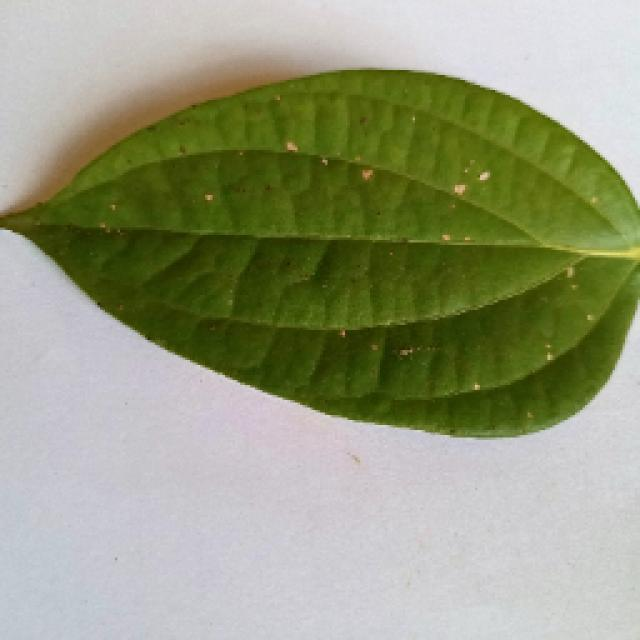pollu-disease: (0, 68, 630, 438)
